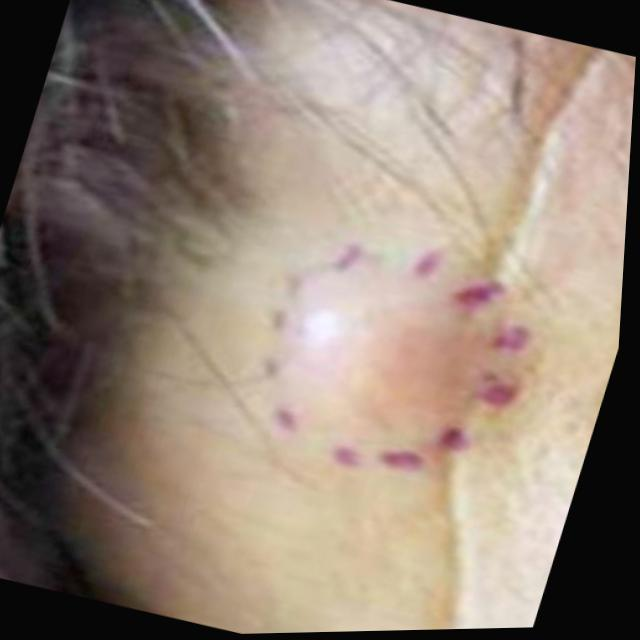nodule: (293, 281, 480, 438)
